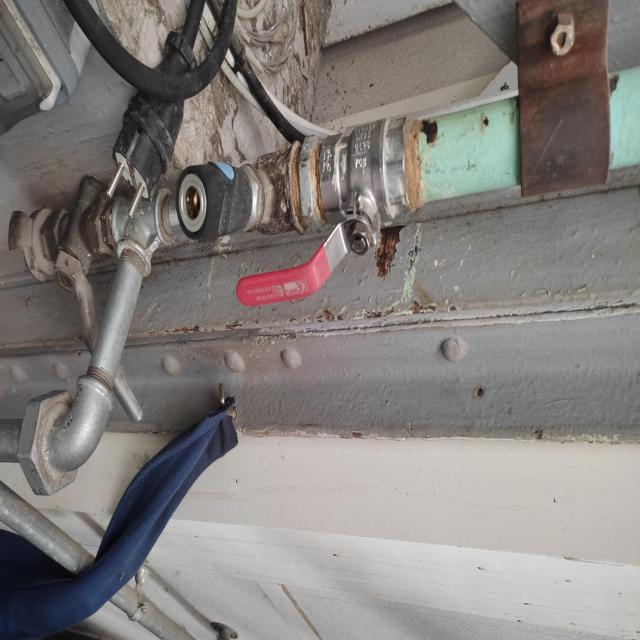opened_valve: (232, 108, 412, 311)
